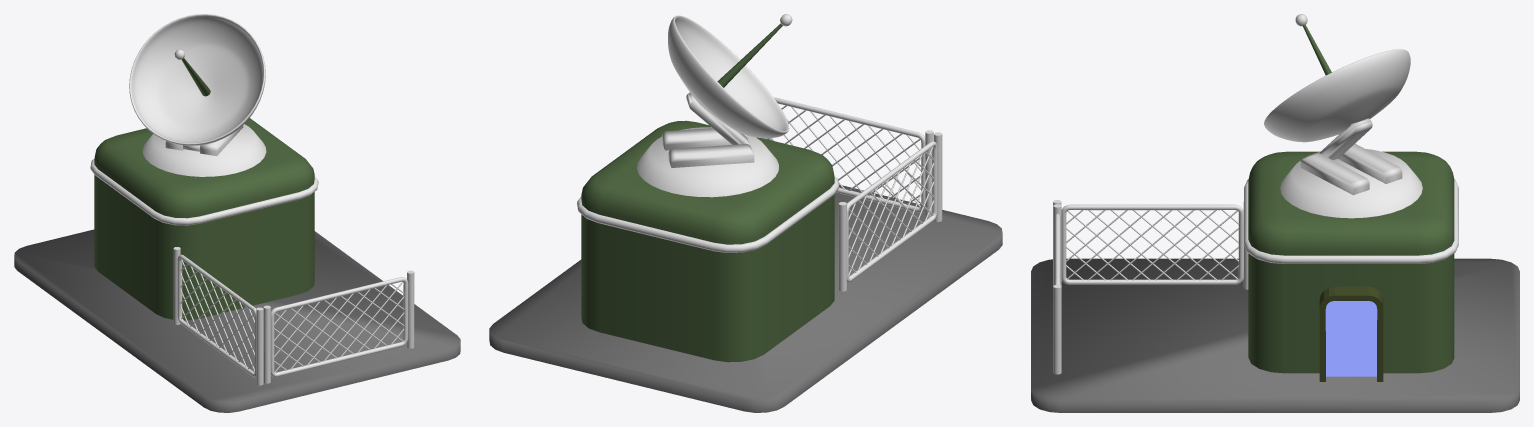
Rendered from radar.glb.
The picture shows the model from 3 angles, left to right: view 1: azimuth 30°, elevation 25°; view 2: azimuth 150°, elevation 25°; view 3: azimuth 270°, elevation 25°; orthographic projection. The views are drawn at different scales.
Parts seen in each view (by area): view 1: Base, base, Dish, base.002, Plane.001, Plane.002, Circle, base.001, Radar; view 2: Base, base, base.002, Dish, Plane.002, Circle, Plane.001, Radar, base.001, Radar Arm, Circle.001; view 3: Base, base, base.002, Dish, Plane.002, Circle, Door.001, Radar, base.001, Door, Plane.001, Radar Arm.
Boxes of the visible parts, bbox=[...] form: Base: bbox=[14, 229, 460, 412]; base: bbox=[94, 174, 314, 320]; Dish: bbox=[129, 14, 265, 145]; base.002: bbox=[94, 118, 314, 218]; Plane.001: bbox=[263, 270, 414, 383]; Plane.002: bbox=[173, 247, 263, 385]; Circle: bbox=[142, 124, 266, 176]; base.001: bbox=[90, 158, 318, 225]; Radar: bbox=[165, 125, 243, 156]; Base: bbox=[489, 184, 1002, 412]; base: bbox=[581, 194, 834, 362]; base.002: bbox=[581, 120, 834, 244]; Dish: bbox=[668, 15, 789, 138]; Plane.002: bbox=[838, 132, 942, 291]; Circle: bbox=[637, 127, 778, 197]; Plane.001: bbox=[763, 97, 933, 218]; Radar: bbox=[661, 128, 754, 167]; base.001: bbox=[577, 176, 838, 252]; Radar Arm: bbox=[686, 92, 749, 144]; Circle.001: bbox=[717, 23, 782, 87]; Base: bbox=[1031, 258, 1519, 412]; base: bbox=[1248, 253, 1454, 373]; base.002: bbox=[1248, 151, 1454, 255]; Dish: bbox=[1264, 49, 1410, 142]; Plane.002: bbox=[1053, 200, 1248, 289]; Circle: bbox=[1280, 149, 1422, 218]; Door.001: bbox=[1325, 301, 1377, 376]; Radar: bbox=[1300, 143, 1402, 195]; base.001: bbox=[1244, 179, 1458, 263]; Door: bbox=[1319, 286, 1383, 381]; Plane.001: bbox=[1053, 204, 1061, 374]; Radar Arm: bbox=[1319, 118, 1372, 160].
Size of what is drawn, in the model's own units: 5.29 by 5.22 by 7.67.
